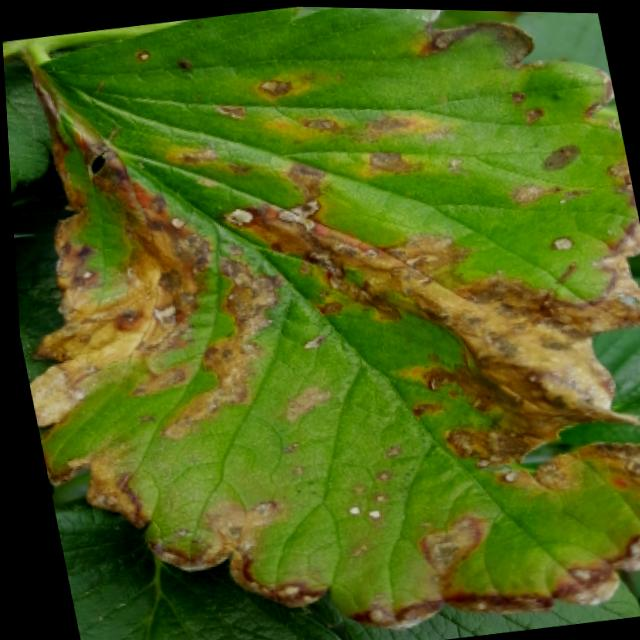Angular Leafspot: (22, 5, 640, 632), (2, 41, 17, 63)
